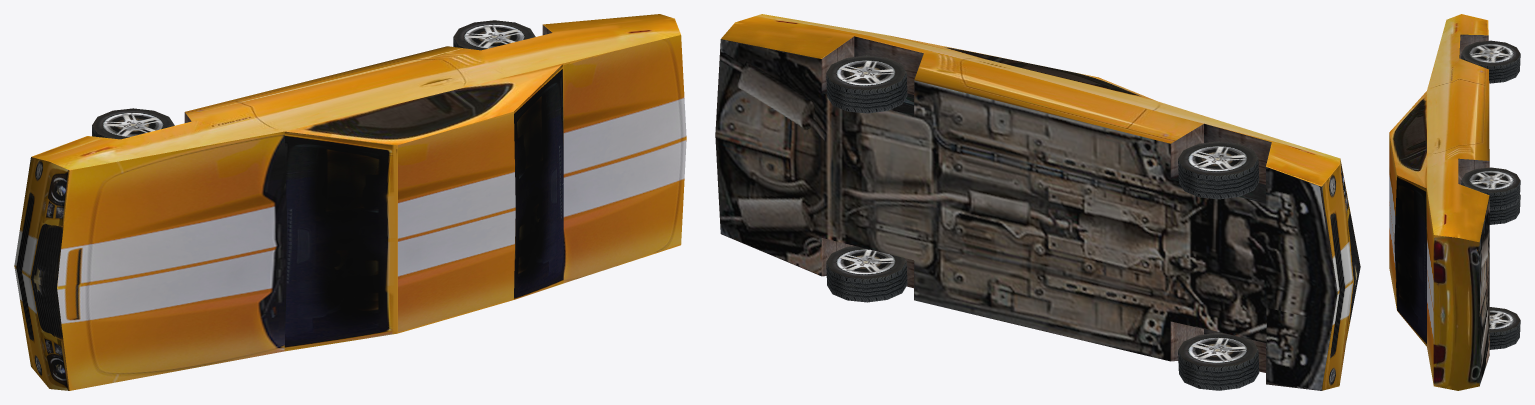
Rendered from car (1).fbx.
3 renders of one model, left to right at view 1: azimuth 30°, elevation 25°; view 2: azimuth 150°, elevation 25°; view 3: azimuth 270°, elevation 25°, orthographic. The views are drawn at different scales.
Parts seen in each view (by area): view 1: Body; view 2: Body; view 3: Body.
Boxes of the visible parts, bbox=[...] form: Body: bbox=[14, 14, 686, 390]; Body: bbox=[715, 14, 1360, 390]; Body: bbox=[1389, 14, 1520, 390].
Size of the model in its own units: 127 by 45.95 by 31.2.
